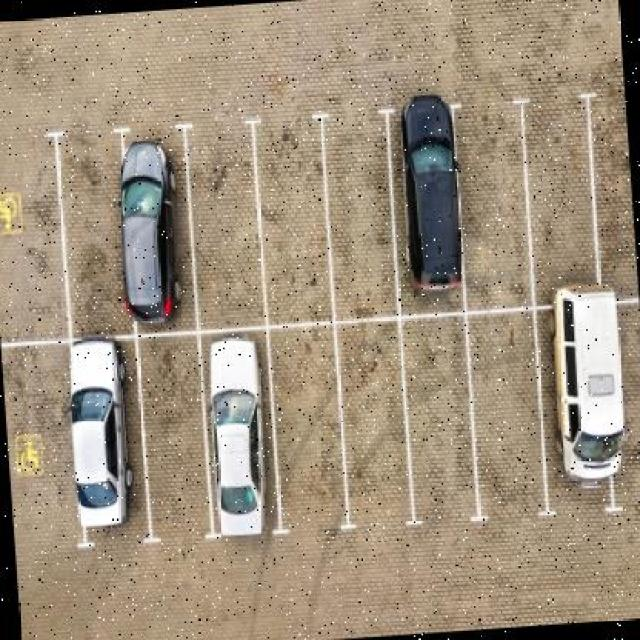Car: (195, 326, 284, 555), (58, 330, 144, 558), (391, 83, 474, 304), (543, 289, 629, 495), (107, 121, 189, 324)
Empty: (467, 311, 546, 514), (335, 323, 413, 520), (4, 344, 78, 547), (272, 329, 347, 524), (322, 115, 398, 304), (190, 127, 264, 321), (458, 101, 529, 298), (404, 317, 475, 514), (138, 341, 207, 541), (524, 101, 596, 292), (260, 116, 327, 318), (1, 132, 67, 332), (66, 140, 124, 327), (592, 89, 639, 283)
